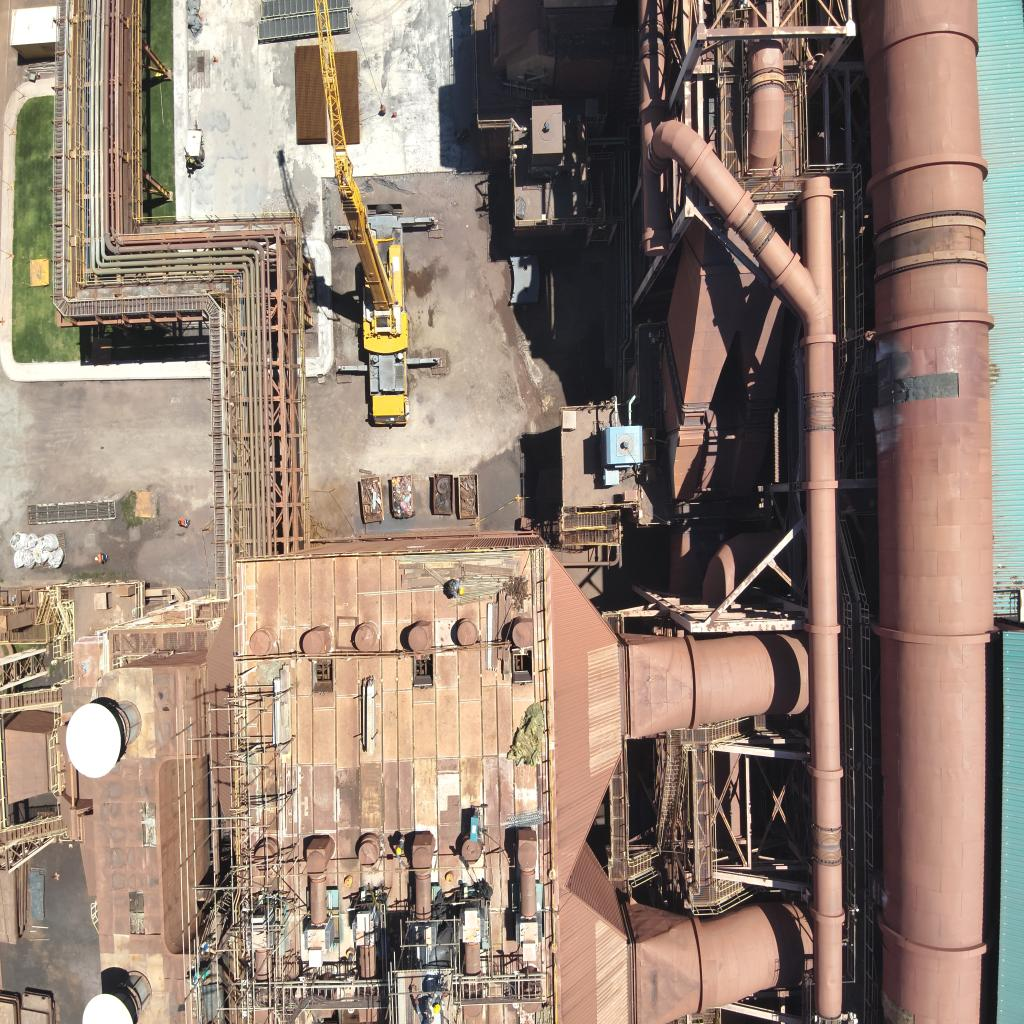Failures: (878, 370, 960, 406), (880, 988, 915, 1024), (127, 890, 149, 936), (141, 801, 158, 848)
